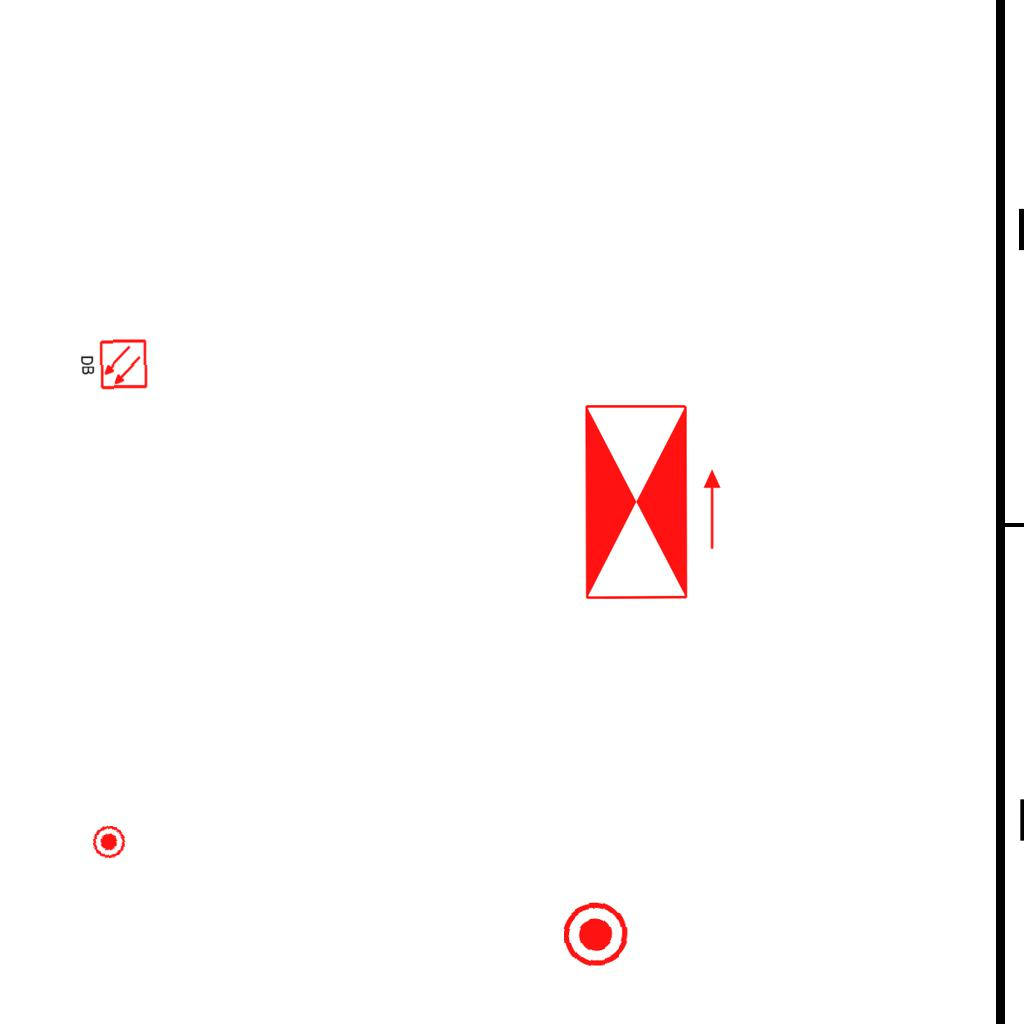DB_Melder_in_Doppelboden_mit_Revisionsoeffnung_mind_40_x_40_cm: (76, 335, 151, 395)
Fluchtwegpiktogramm: (579, 398, 726, 606)
Taster: (561, 899, 633, 971), (88, 822, 129, 863)
